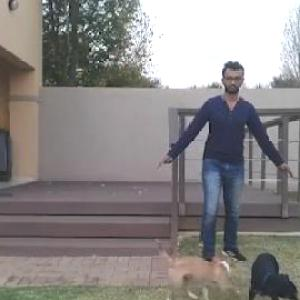land: (159, 61, 282, 275)
